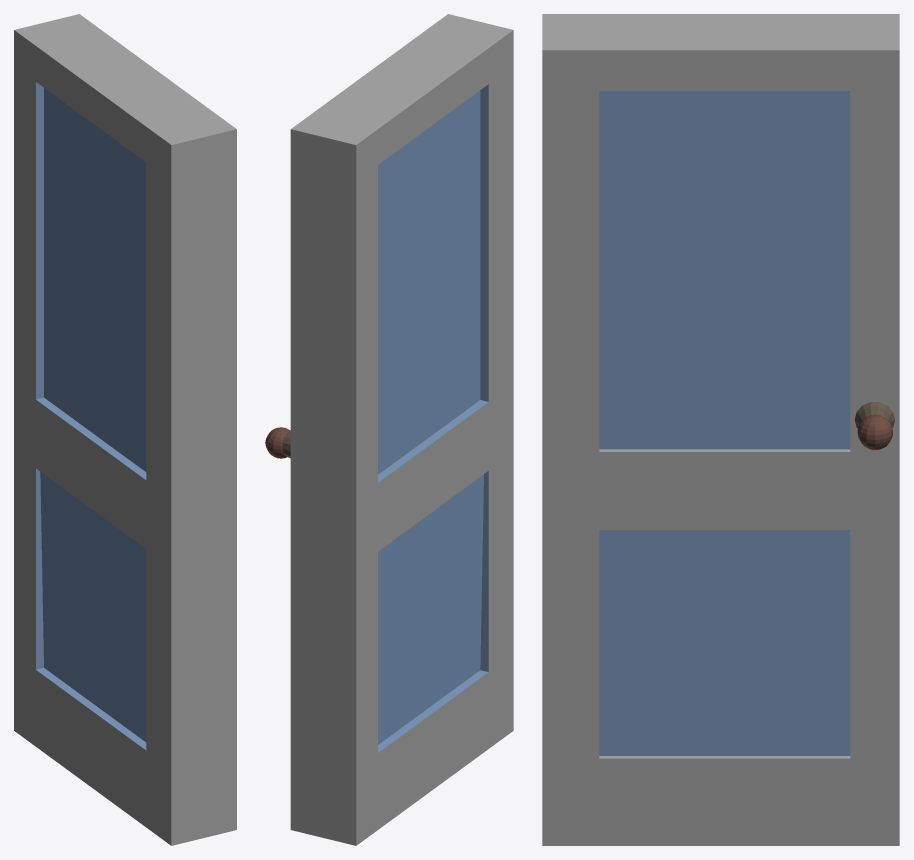
File: doorv2.fbx
3 views of the same model, side by side, from view 1: azimuth 30°, elevation 25°; view 2: azimuth 150°, elevation 25°; view 3: azimuth 270°, elevation 25° (orthographic). The views are drawn at different scales.
Visible parts, largest first — view 1: Cube; view 2: Cube, Sphere; view 3: Cube, Sphere.
Boxes of the visible parts, box(x1,y1,x2,y2) form: Cube: box(14, 14, 236, 845); Cube: box(290, 14, 513, 845); Sphere: box(265, 427, 290, 458); Cube: box(542, 14, 899, 845); Sphere: box(857, 414, 892, 450).
Bounding box in the file's own units: 43.86 × 295 × 120.
